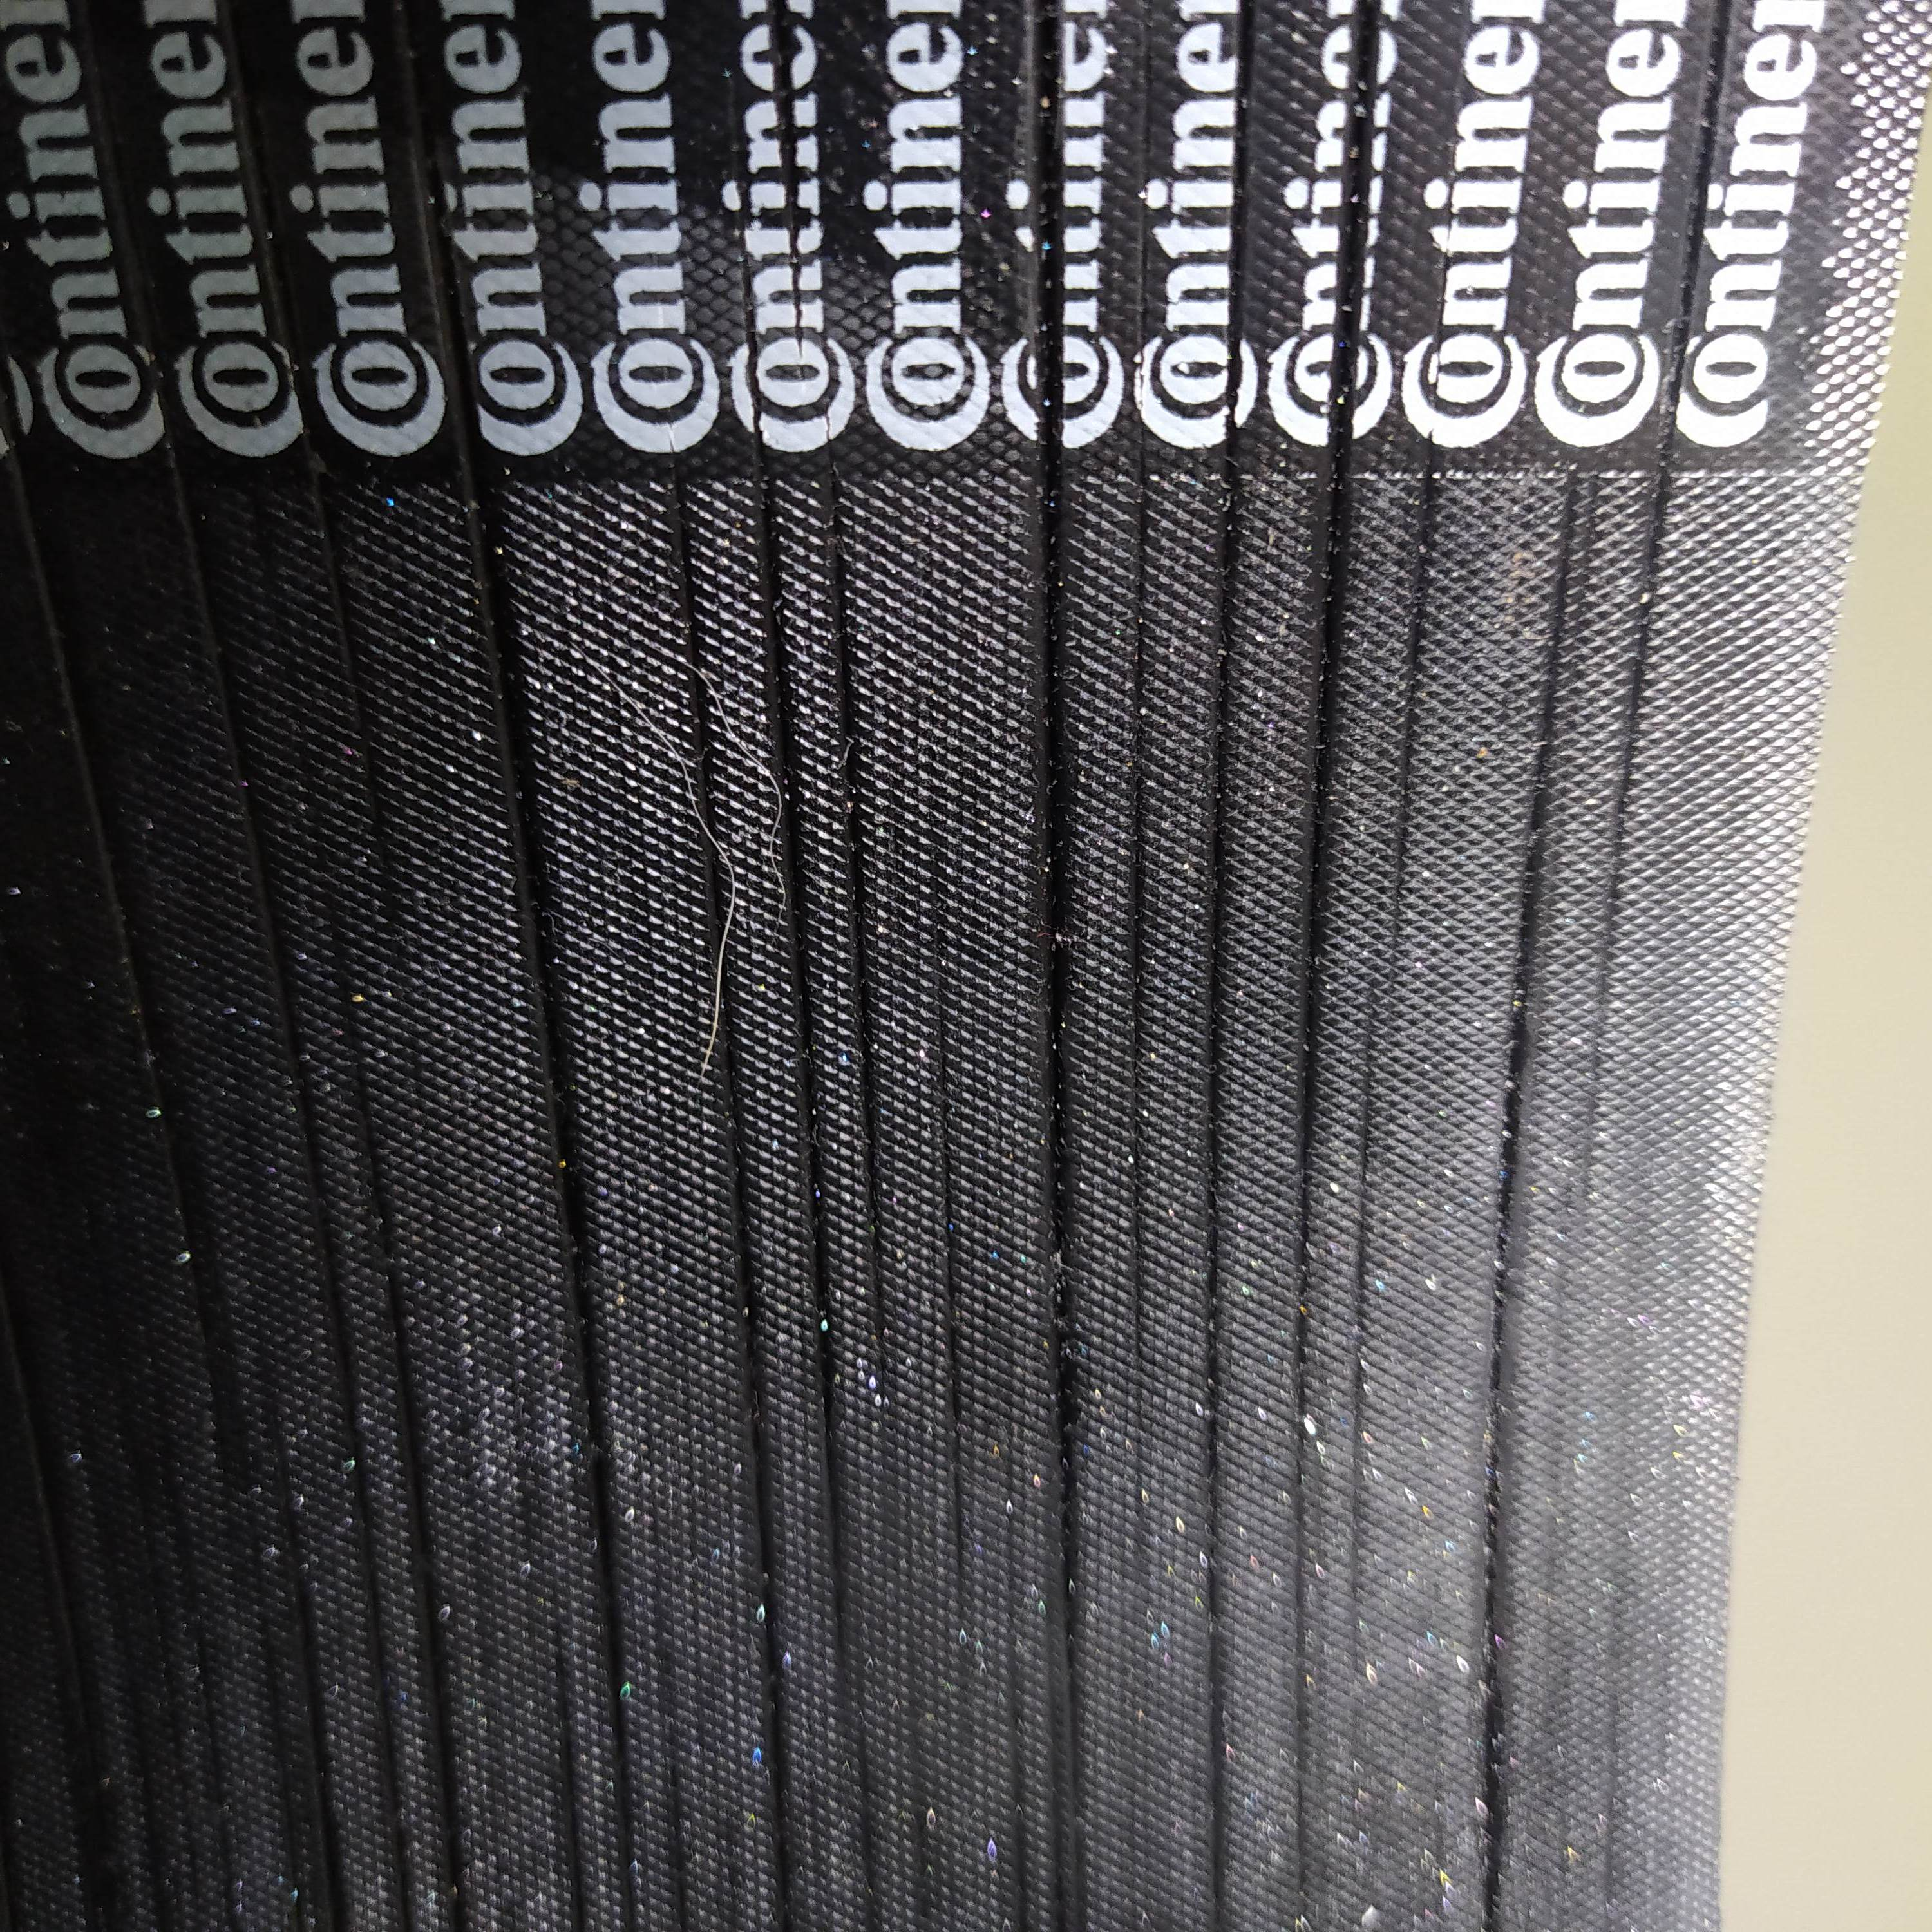friso grande: (1047, 1238, 1093, 1930), (1030, 773, 1083, 1240), (1019, 58, 1072, 502), (1470, 1405, 1514, 1927), (481, 757, 571, 970), (1201, 1330, 1233, 1927), (1024, 492, 1083, 800), (58, 1683, 131, 1927), (1300, 478, 1359, 759), (793, 1090, 846, 1391), (853, 1044, 895, 1417), (290, 1684, 356, 1923), (1504, 761, 1555, 1039), (1488, 1035, 1525, 1408), (812, 1389, 851, 1736), (1322, 223, 1371, 487), (1200, 955, 1233, 1332), (1394, 467, 1437, 764), (840, 789, 885, 1056), (1122, 1085, 1150, 1497), (1534, 524, 1582, 766), (1123, 757, 1155, 1090), (761, 1688, 805, 1927), (782, 881, 830, 1097), (704, 862, 748, 1093), (752, 559, 805, 752), (513, 973, 580, 1125), (941, 1345, 973, 1654), (1290, 952, 1330, 1192), (1619, 513, 1656, 770), (1198, 761, 1246, 957), (1299, 752, 1345, 955), (131, 1700, 173, 1918), (1679, 96, 1716, 336), (994, 1355, 1024, 1647), (1132, 134, 1159, 456), (1338, 46, 1382, 237), (1290, 1187, 1313, 1537), (734, 1295, 778, 1476), (722, 1086, 759, 1299), (1292, 1525, 1311, 1923), (750, 1467, 784, 1691), (778, 741, 828, 893), (996, 1635, 1035, 1826), (1223, 285, 1247, 584), (1652, 329, 1691, 518), (557, 1272, 609, 1415), (32, 513, 81, 660), (540, 1132, 591, 1272), (78, 1345, 117, 1529), (1131, 453, 1154, 764), (932, 1132, 964, 1352), (272, 255, 313, 421), (571, 1410, 616, 1562), (44, 1553, 94, 1688), (320, 1249, 364, 1392), (110, 1530, 147, 1698), (212, 1746, 246, 1928), (462, 517, 517, 628), (58, 651, 110, 770), (685, 745, 734, 867), (745, 407, 784, 557), (1230, 53, 1254, 287), (725, 55, 754, 258), (672, 433, 704, 607), (487, 632, 529, 761), (5, 393, 50, 517), (188, 504, 226, 642), (356, 1523, 391, 1674), (768, 37, 803, 188), (784, 189, 814, 364), (73, 766, 134, 851), (345, 621, 386, 748), (681, 602, 717, 747), (301, 1108, 334, 1254), (734, 260, 768, 407), (387, 1336, 432, 1445), (218, 642, 258, 757), (159, 377, 196, 502), (1215, 566, 1238, 768), (1000, 1819, 1040, 1932), (287, 1566, 324, 1690), (134, 249, 172, 373), (340, 1389, 373, 1525), (382, 1799, 418, 1925), (453, 410, 494, 518), (589, 1568, 628, 1679), (303, 414, 341, 525), (602, 1764, 640, 1874), (393, 1447, 439, 1539), (538, 1637, 579, 1739), (830, 518, 860, 655), (425, 1737, 469, 1829), (322, 524, 361, 628), (258, 846, 287, 984), (840, 649, 867, 796), (244, 111, 274, 239), (104, 152, 142, 255), (409, 1537, 444, 1644), (278, 978, 306, 1111), (97, 853, 149, 924), (126, 989, 175, 1062), (554, 1812, 596, 1895), (377, 1668, 403, 1801), (115, 932, 177, 989), (934, 959, 954, 1134), (442, 1836, 478, 1932), (16, 1355, 53, 1445), (143, 1058, 195, 1122), (418, 1640, 453, 1732), (426, 260, 467, 340), (209, 1373, 251, 1449), (410, 161, 442, 258), (196, 1306, 244, 1369), (1129, 42, 1161, 138), (439, 338, 479, 412), (195, 1651, 223, 1757), (929, 849, 954, 970), (598, 1684, 632, 1771), (80, 44, 104, 156), (168, 1184, 218, 1238), (403, 62, 432, 157), (182, 1546, 209, 1645), (1555, 467, 1598, 529), (165, 1123, 211, 1180), (548, 1741, 584, 1812), (186, 1240, 223, 1304), (48, 1444, 69, 1553), (241, 763, 264, 847), (612, 1877, 642, 1932), (234, 46, 257, 113), (564, 1893, 596, 1930), (1706, 50, 1729, 96)
friso pequeno: (1576, 916, 1621, 1203), (644, 1493, 686, 1732), (387, 879, 433, 1097), (653, 1730, 702, 1932), (1345, 1279, 1366, 1681), (1352, 1012, 1376, 1281), (267, 1401, 304, 1566), (363, 747, 403, 879), (1605, 766, 1638, 924), (138, 1401, 166, 1580), (310, 895, 361, 993), (1384, 821, 1410, 1001), (306, 734, 333, 893), (375, 1230, 416, 1330), (333, 1003, 380, 1081), (157, 1580, 180, 1730), (175, 1736, 196, 1895), (253, 1281, 280, 1401), (285, 626, 310, 740), (357, 1162, 400, 1228), (349, 1086, 382, 1159), (1357, 934, 1382, 1024), (1398, 757, 1414, 823)
